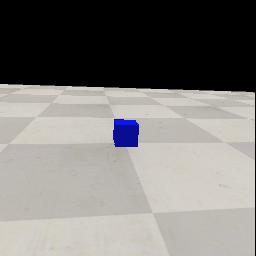box: (113, 119, 139, 147)
